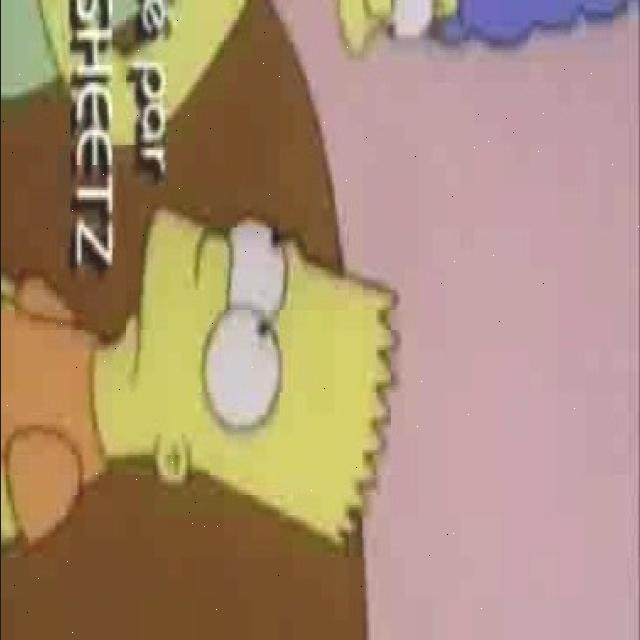Bart Simpson: (93, 206, 400, 544)
